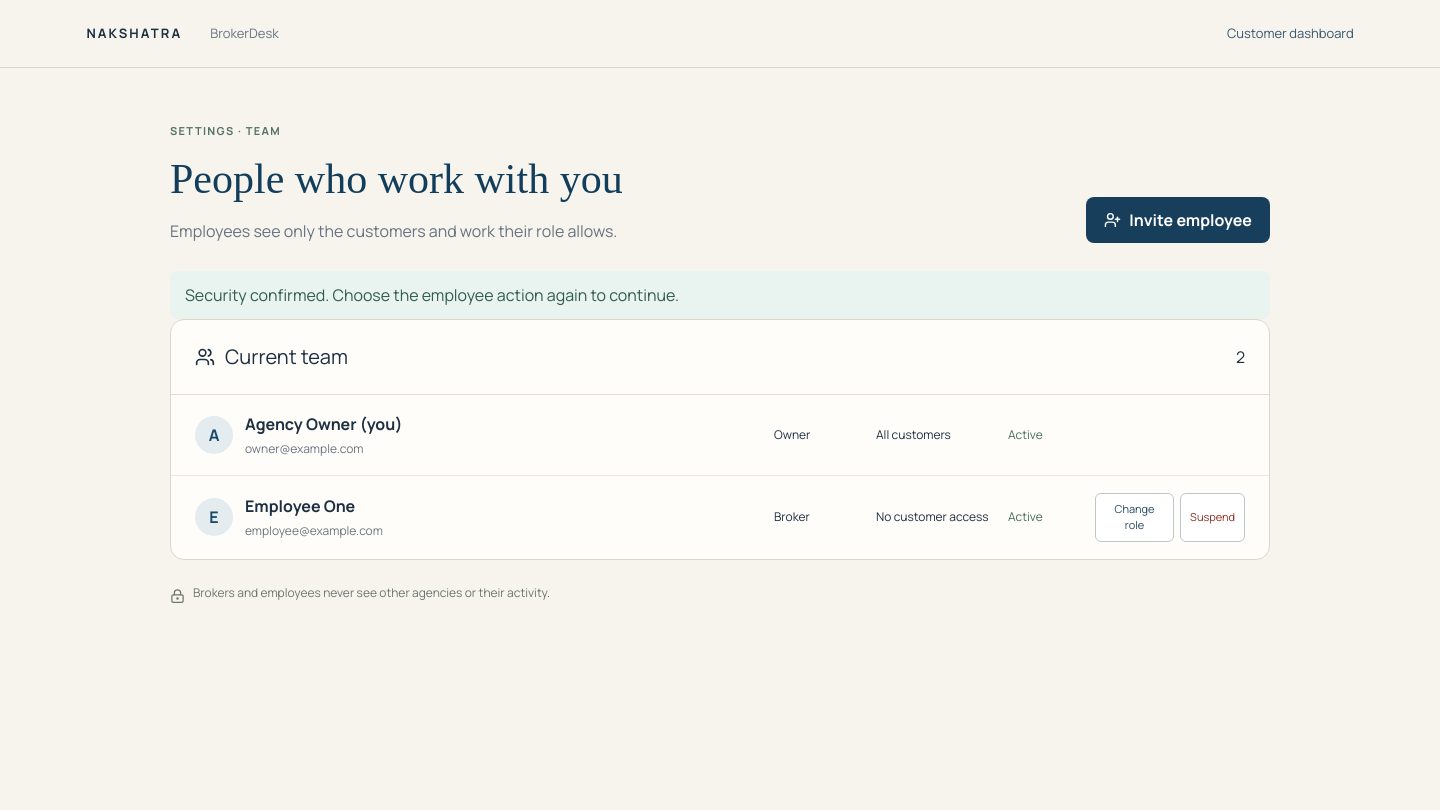
Test: BrokerDesk team settings › replaces a non-owner role only after the matching proof
This screenshot has width=1440, height=810.
Click the button with aria-label "Change role for Employee One". click: coordinates (1135, 517)
box: [1095,492,1174,542]
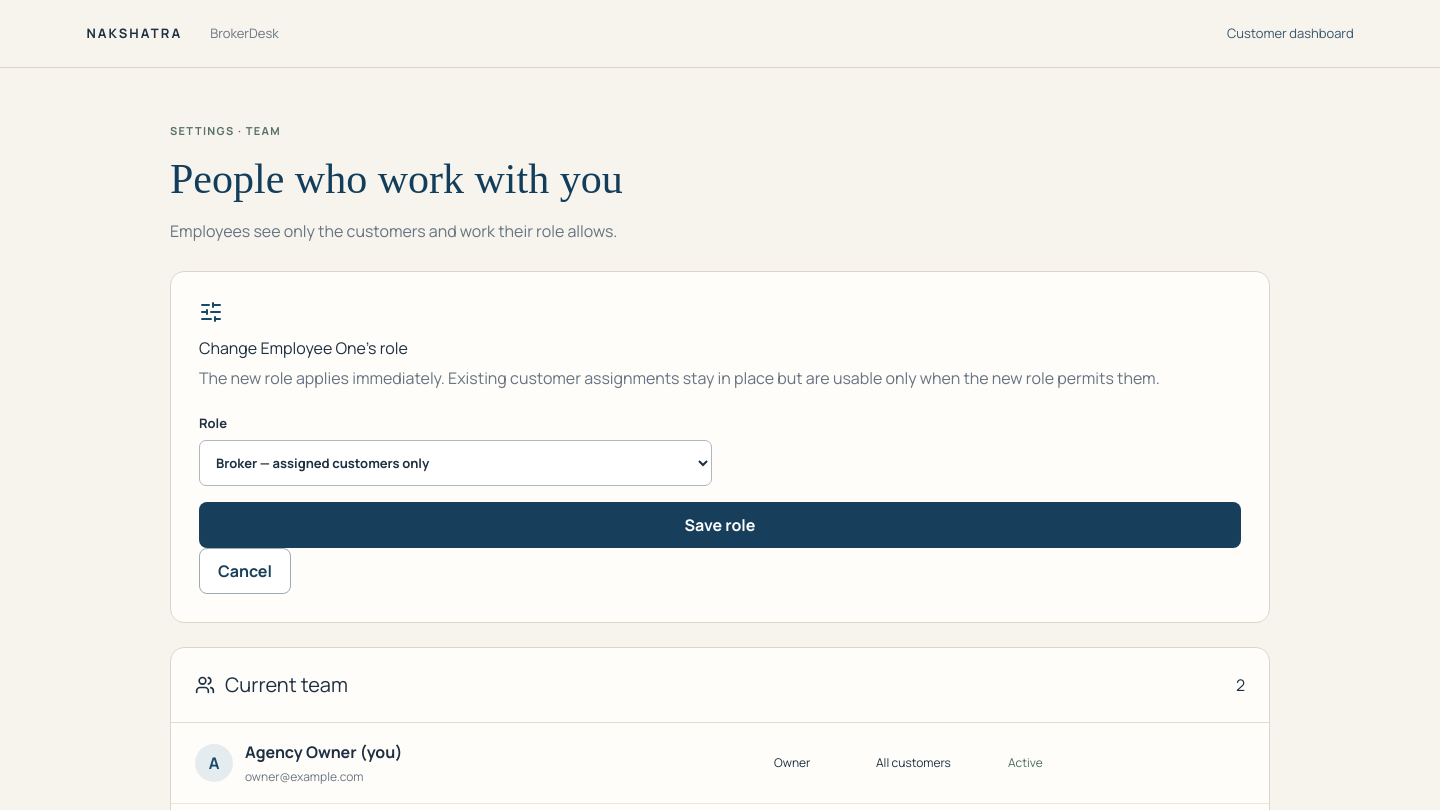
Select "Coordinator — assigned customers only" in the dropdown labelled "Role". click: coordinates (456, 463)
box: [199,440,712,486]
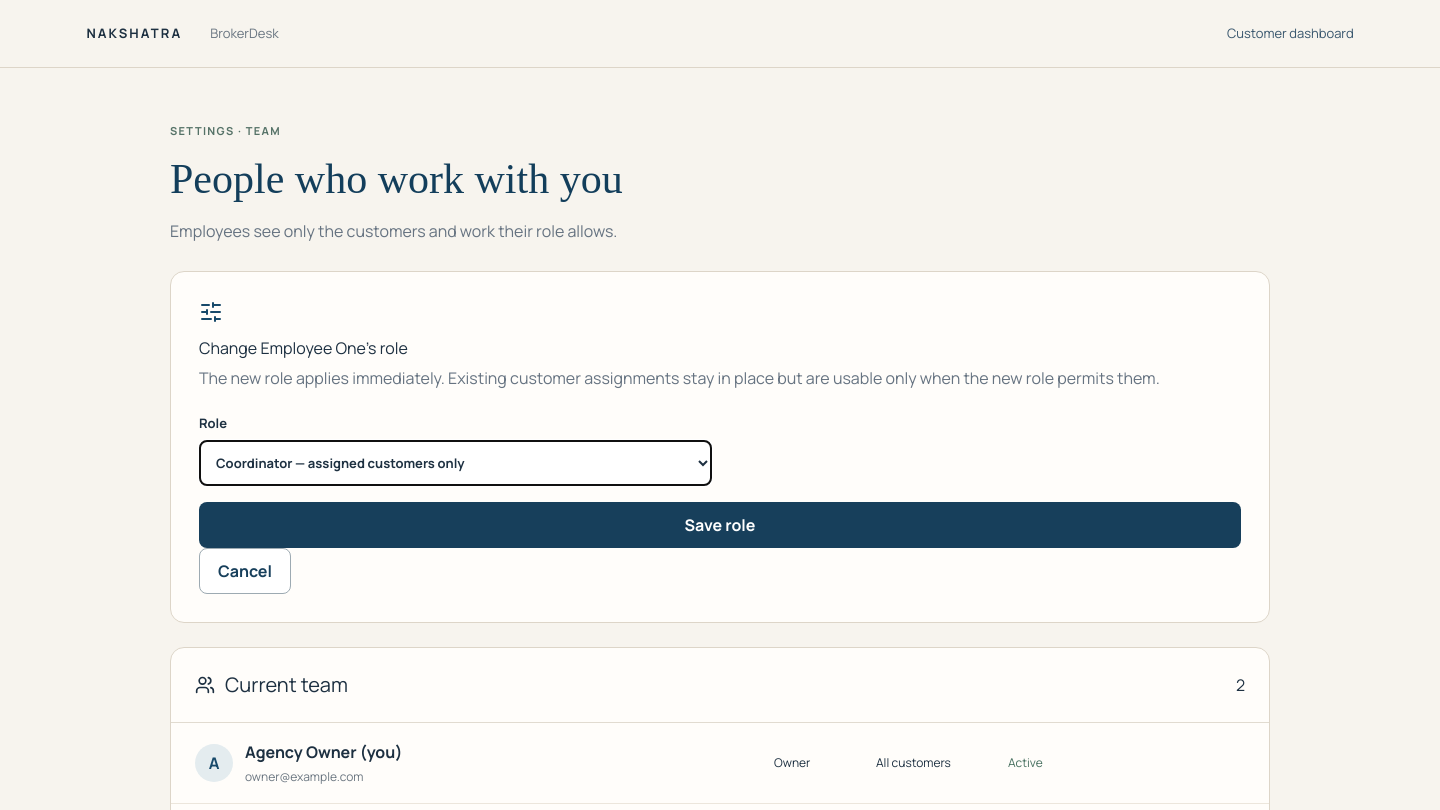
Click the button "Save role". click: coordinates (720, 525)
box: [199,502,1241,548]
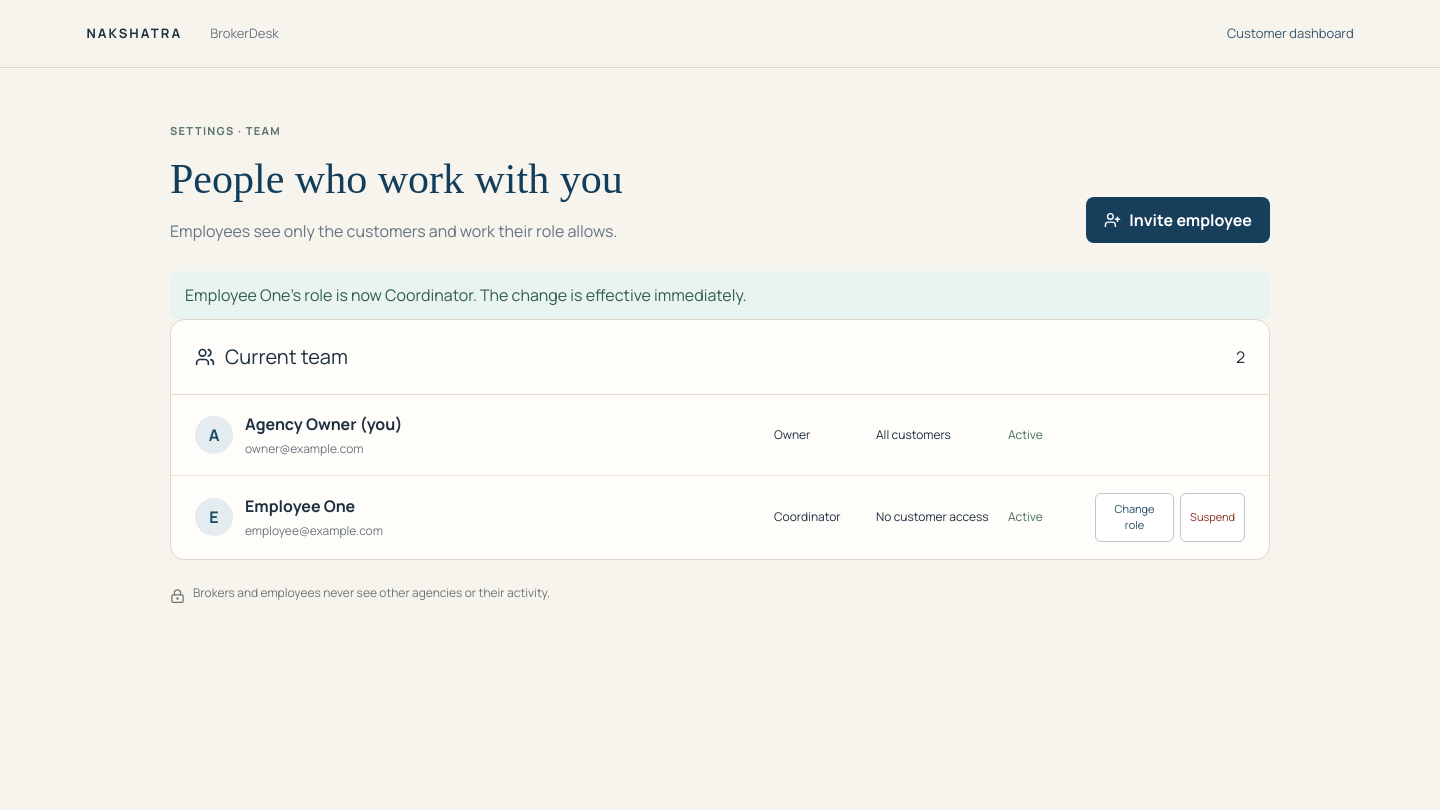
Result: the text "effective immediately" is shown at [185,284,747,306]
